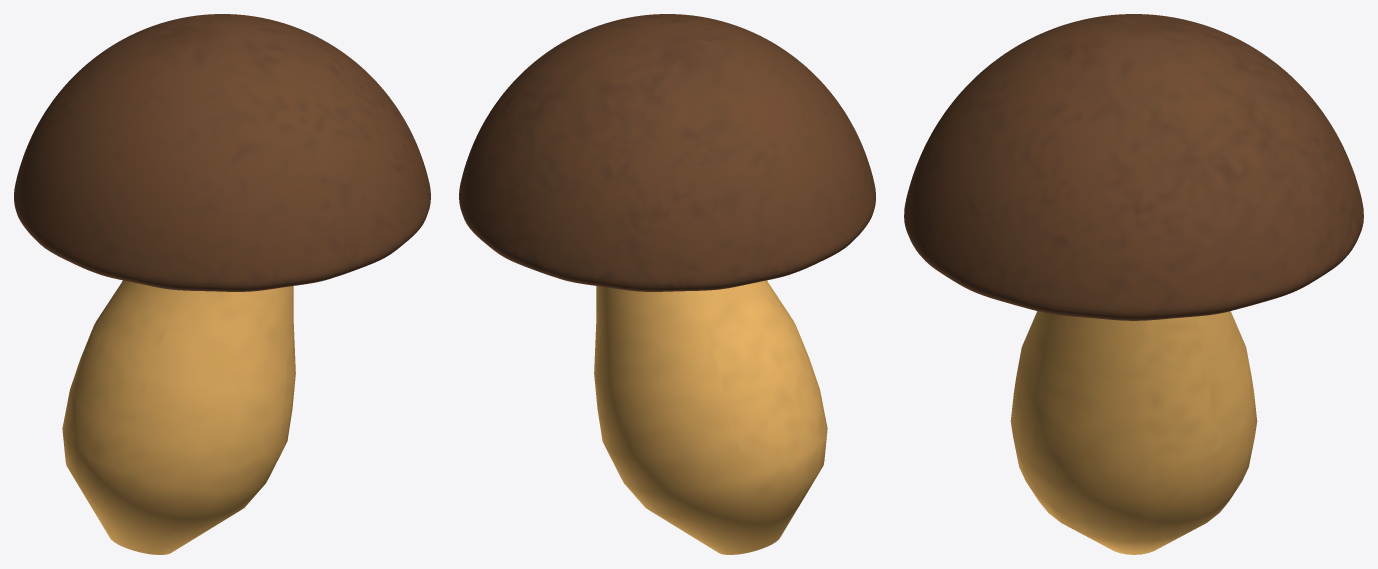
The model's file is Karljohan3.fbx.
3 renders of one model, left to right at view 1: azimuth 30°, elevation 25°; view 2: azimuth 150°, elevation 25°; view 3: azimuth 270°, elevation 25°, orthographic. The views are drawn at different scales.
Visible parts, largest first — view 1: Sphere.002, Cylinder.002; view 2: Sphere.002, Cylinder.002; view 3: Sphere.002, Cylinder.002.
Boxes of the visible parts, x1=… form: Sphere.002: x1=14, y1=14, x2=430, y2=291; Cylinder.002: x1=62, y1=280, x2=295, y2=554; Sphere.002: x1=459, y1=14, x2=875, y2=291; Cylinder.002: x1=594, y1=280, x2=827, y2=554; Sphere.002: x1=904, y1=14, x2=1363, y2=320; Cylinder.002: x1=1010, y1=311, x2=1257, y2=554.
Size of the model in its own units: 4.11 by 4.11 by 5.42.
3 materials, 3 textured.
